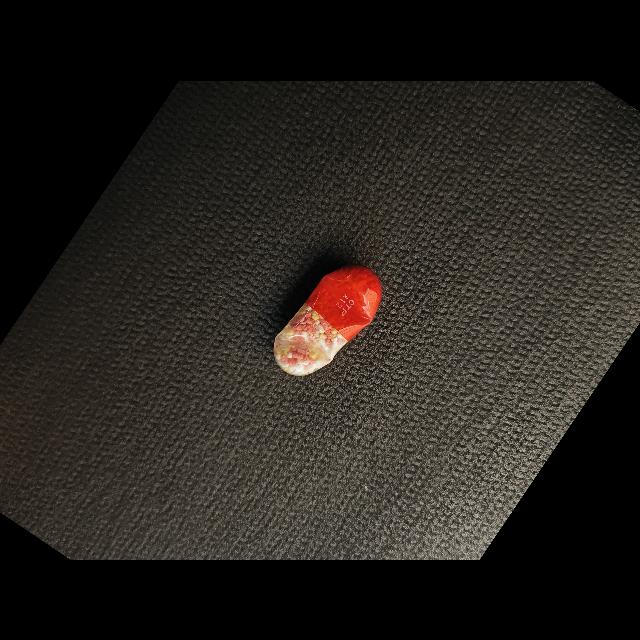Defective Capsule: (273, 265, 382, 376)
